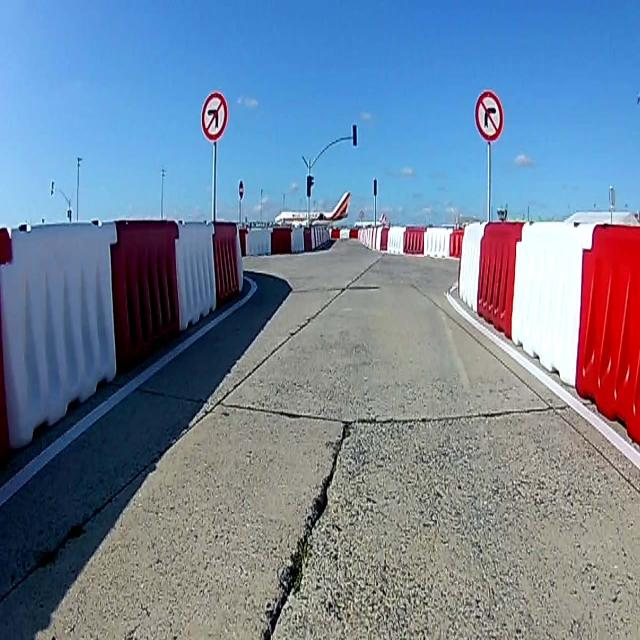sagadonulmez: (476, 90, 502, 138)
soladonulmez: (202, 91, 228, 140)
